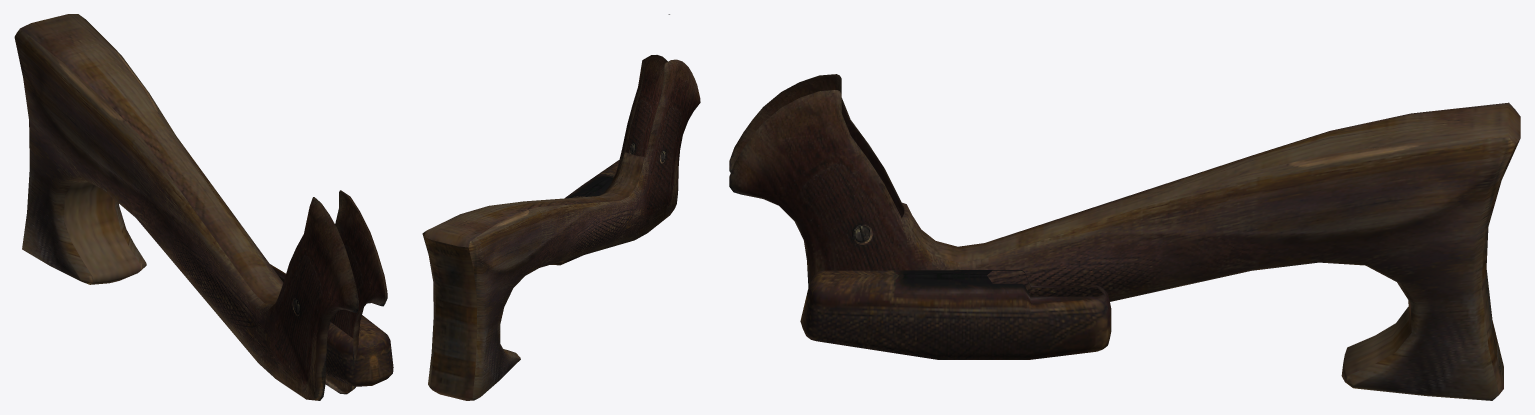
File: butt.obj
3 renders of one model, left to right at view 1: azimuth 30°, elevation 25°; view 2: azimuth 150°, elevation 25°; view 3: azimuth 270°, elevation 25°, orthographic. The views are drawn at different scales.
Parts seen in each view (by area): view 1: wpn_revolver; view 2: wpn_revolver; view 3: wpn_revolver.
Part boxes in pixels (<box>): wpn_revolver: <box>14,14,393,400</box>; wpn_revolver: <box>422,14,700,400</box>; wpn_revolver: <box>729,74,1520,400</box>.
Size of the model in its own units: 0.0593 by 0.1825 by 0.3525.
